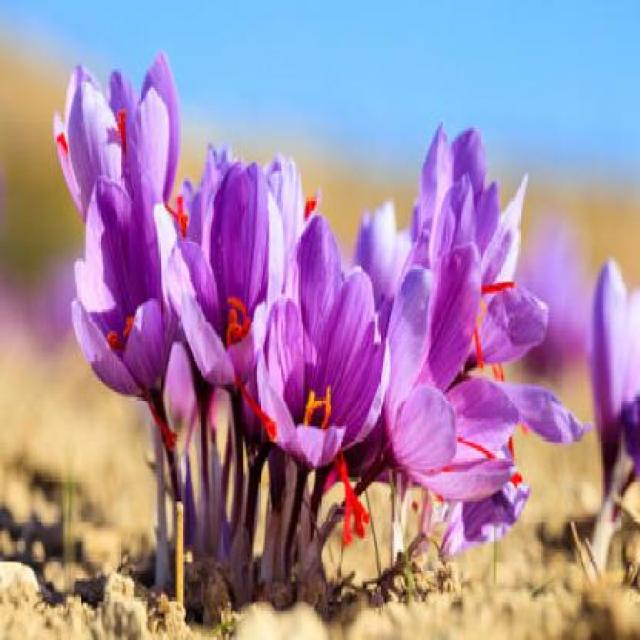Flower: (382, 255, 518, 503), (268, 227, 388, 485), (46, 55, 192, 252), (65, 163, 180, 412), (168, 168, 278, 424), (584, 244, 638, 502)
stigma: (232, 382, 280, 438), (334, 456, 350, 547), (346, 478, 369, 540), (227, 295, 255, 335), (348, 488, 375, 526), (471, 325, 489, 373), (481, 277, 520, 299), (112, 109, 134, 147), (297, 195, 321, 224), (104, 328, 123, 353)
